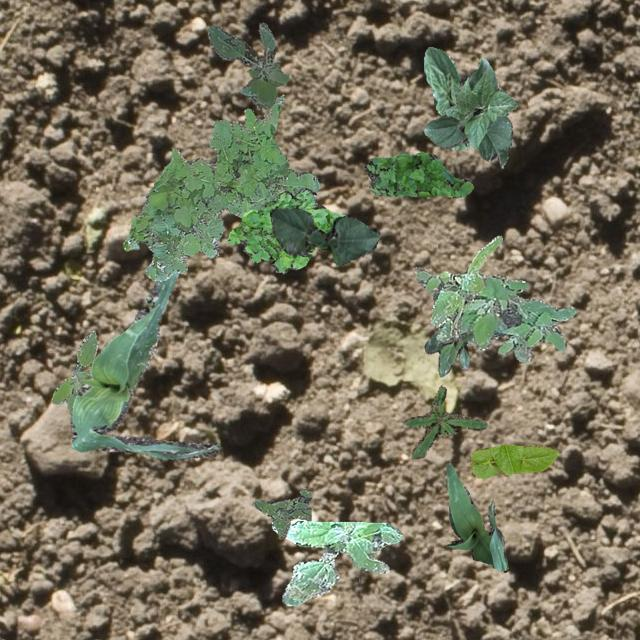crop: (70, 271, 218, 458), (422, 56, 516, 168), (446, 462, 508, 572), (268, 207, 378, 266), (422, 45, 470, 148), (470, 442, 558, 477)
weed: (122, 94, 318, 280), (414, 266, 576, 362), (271, 520, 401, 604), (226, 186, 344, 272), (429, 235, 502, 336), (206, 22, 288, 108), (404, 384, 486, 458), (362, 150, 472, 197), (424, 292, 474, 376), (50, 330, 96, 412), (252, 487, 310, 538)
